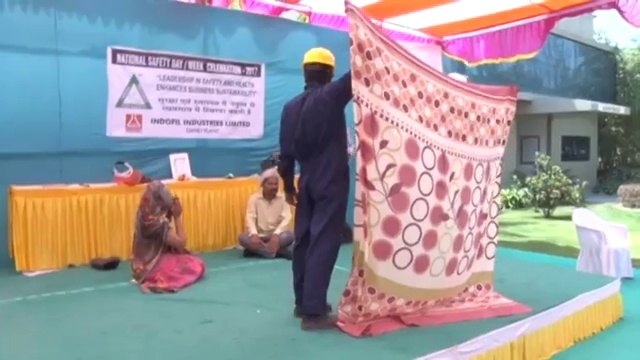helmet: (302, 46, 337, 69)
helmet_off: (143, 180, 174, 216), (260, 168, 281, 200)
helmet_on: (302, 46, 338, 92)
person: (275, 43, 350, 331), (128, 180, 203, 290), (241, 167, 296, 254)
